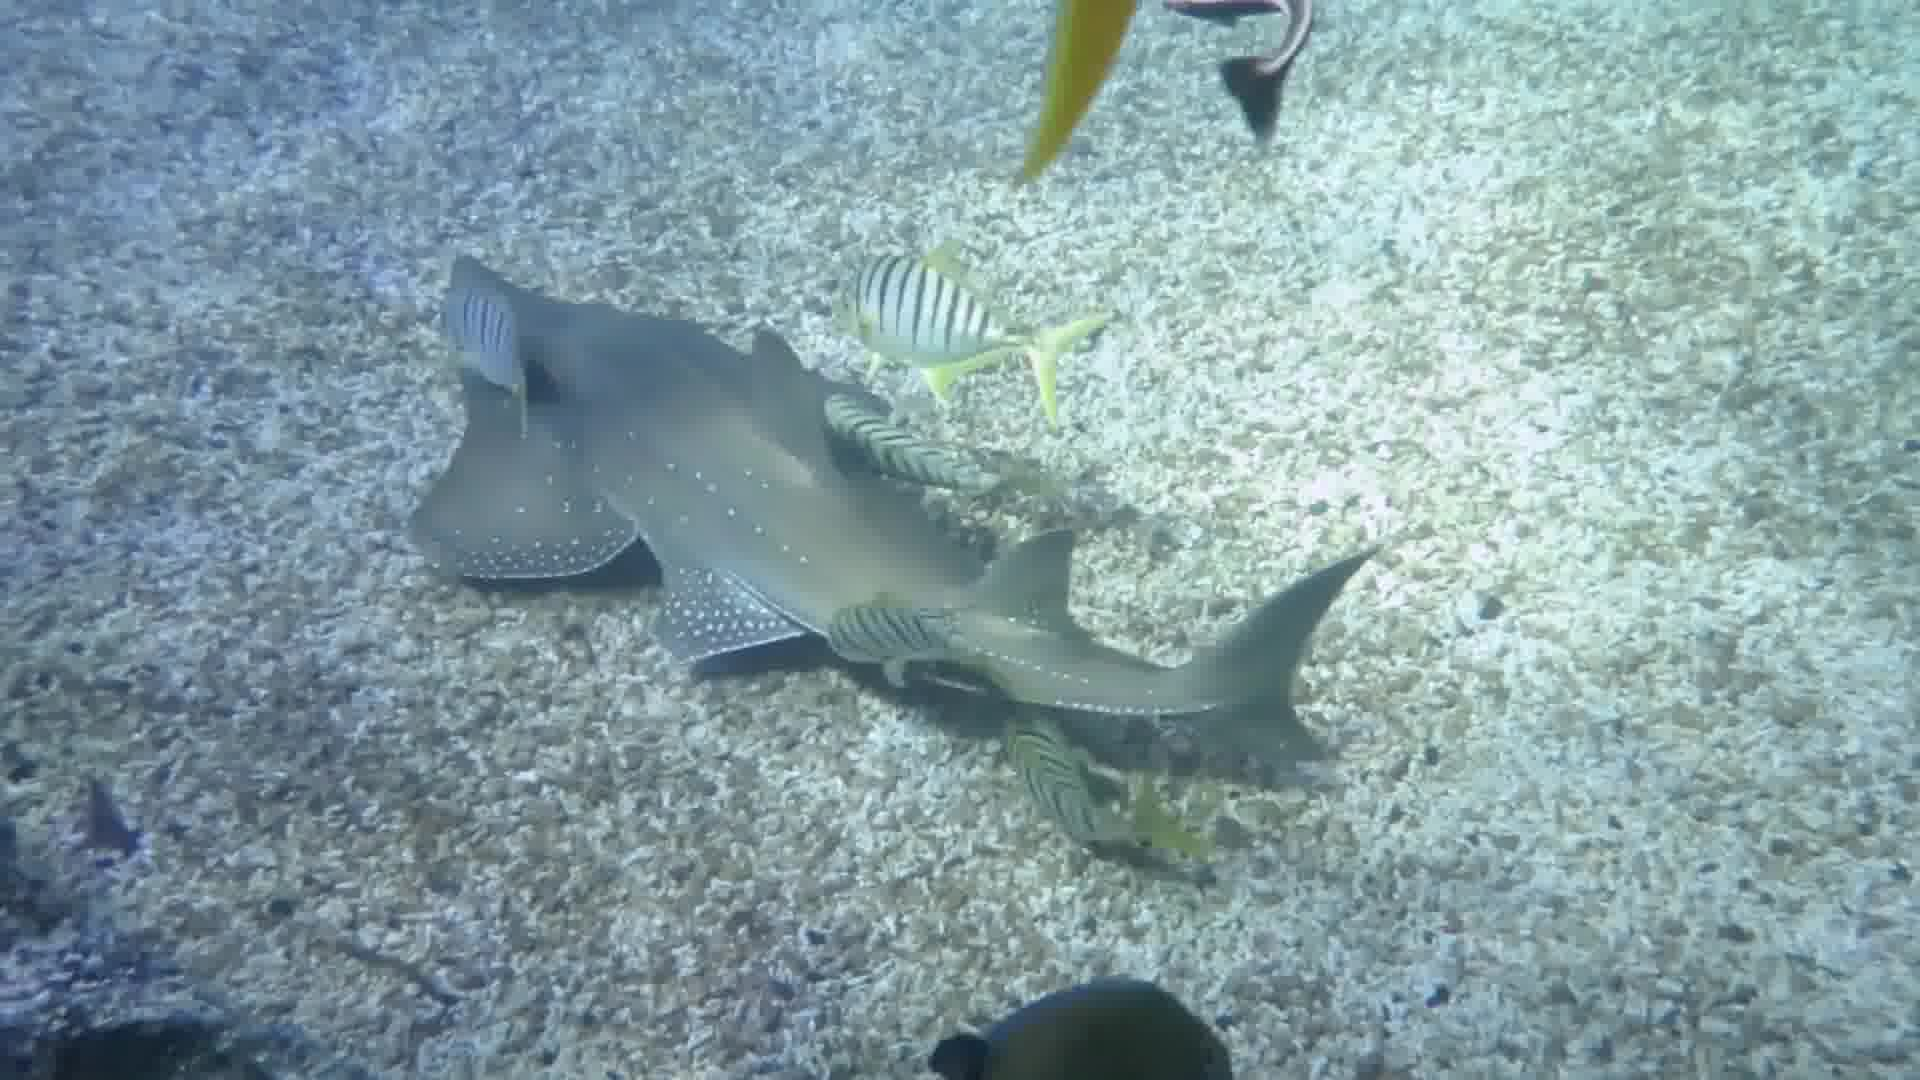Rhychobatus djiddensis: (400, 243, 1432, 806)
